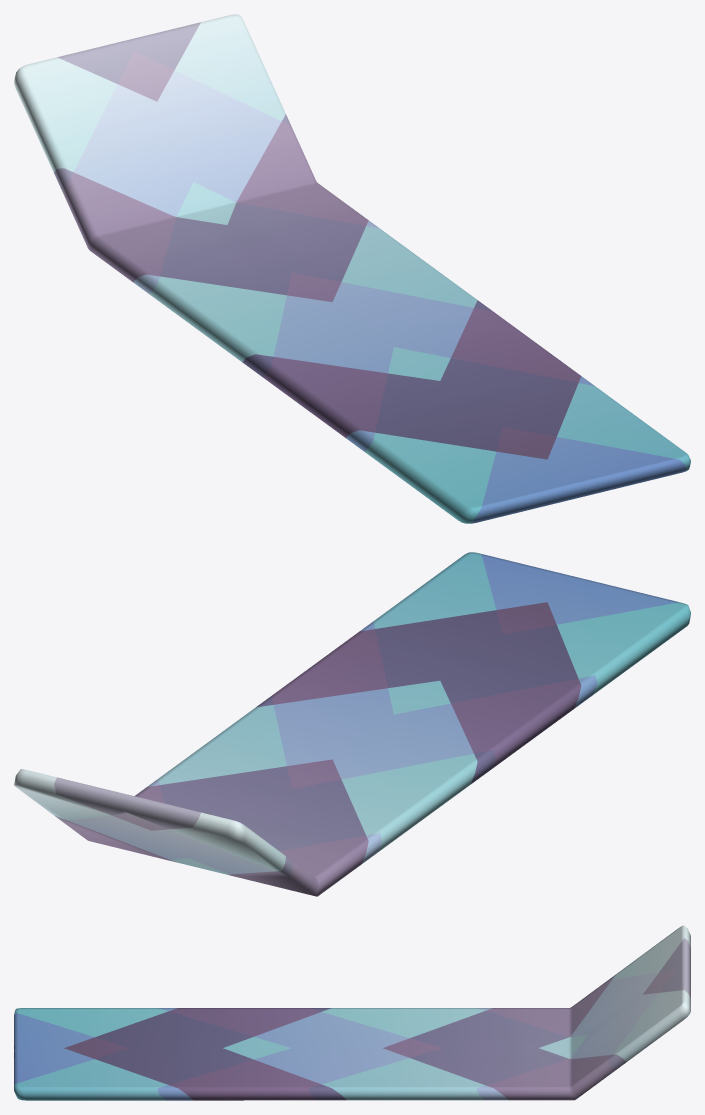
The model's file is SunLounger_Mattress_CheessDiagonal_B.fbx.
3 renders of one model, top to bottom at view 1: azimuth 30°, elevation 25°; view 2: azimuth 150°, elevation 25°; view 3: azimuth 270°, elevation 25°, orthographic. The views are drawn at different scales.
Visible parts, largest first — view 1: SunLounger_Mattress_CheessDiagonal_B; view 2: SunLounger_Mattress_CheessDiagonal_B; view 3: SunLounger_Mattress_CheessDiagonal_B.
Boxes of the visible parts, x1,y1,x2,y2 form: SunLounger_Mattress_CheessDiagonal_B: [14, 14, 690, 523]; SunLounger_Mattress_CheessDiagonal_B: [14, 552, 690, 896]; SunLounger_Mattress_CheessDiagonal_B: [14, 925, 690, 1100].
Bounding box in the file's own units: 45.43 × 24.42 × 157.
